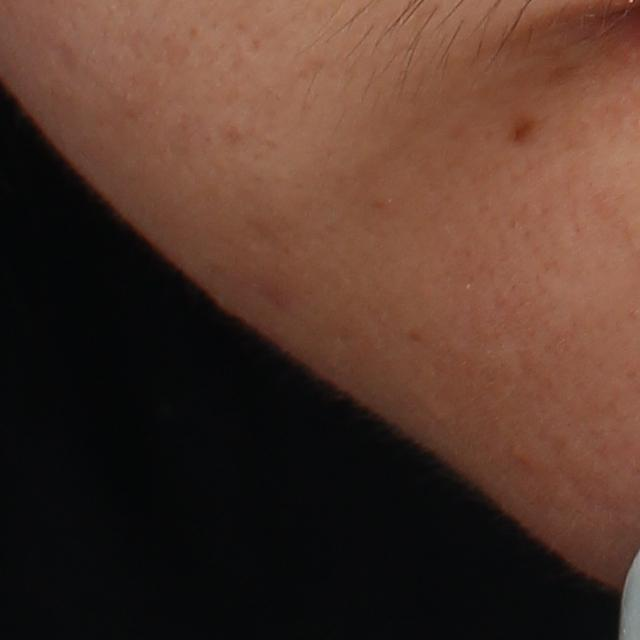nevus: (504, 112, 541, 150)
